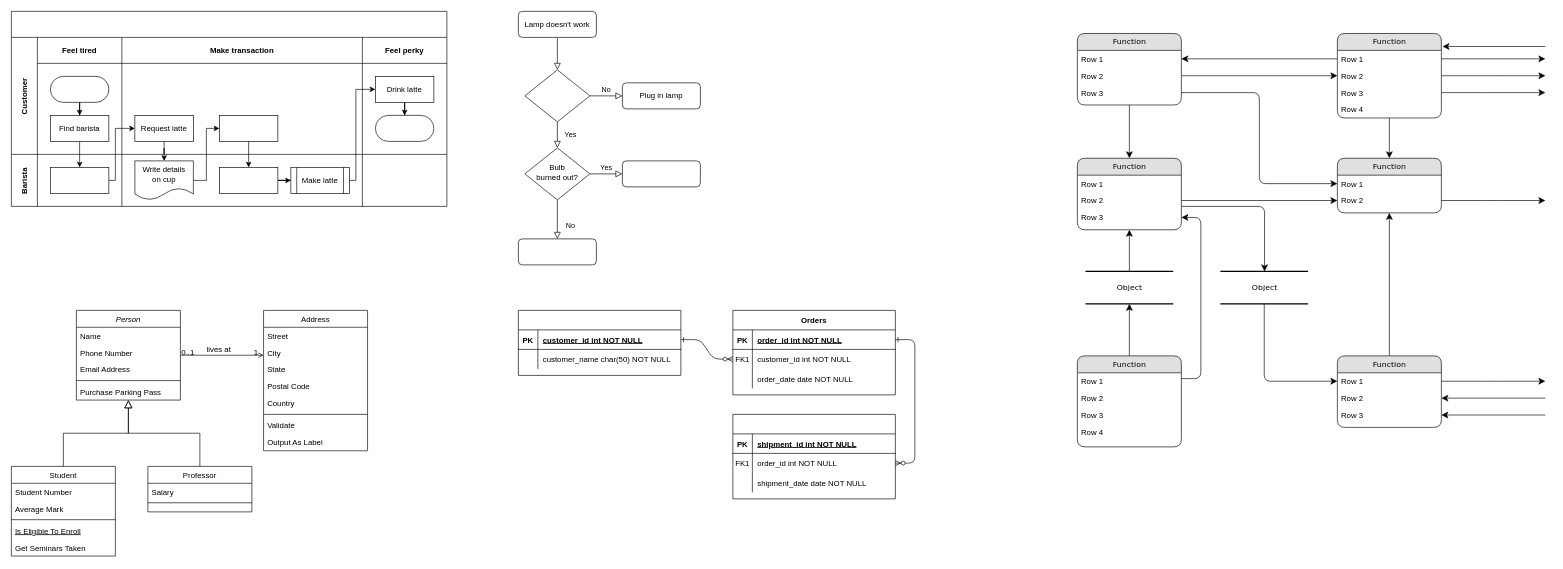
This 1563x569 diagram has some shape labels left out. Each missing label, with the box of its shape:
Accept payment: (219, 167, 278, 193)
Buy latte: (219, 115, 278, 141)
Customers: (518, 310, 681, 375)
End: (375, 115, 434, 141)
Greet customer: (50, 167, 109, 193)
Lamp plugged in?: (524, 69, 590, 122)
PERK UP WITH A LATTE: (11, 11, 447, 206)
Repair Lamp: (518, 238, 596, 265)
Replace Bulb: (622, 160, 700, 187)
Shipments: (732, 414, 895, 499)
Start: (50, 76, 109, 102)
